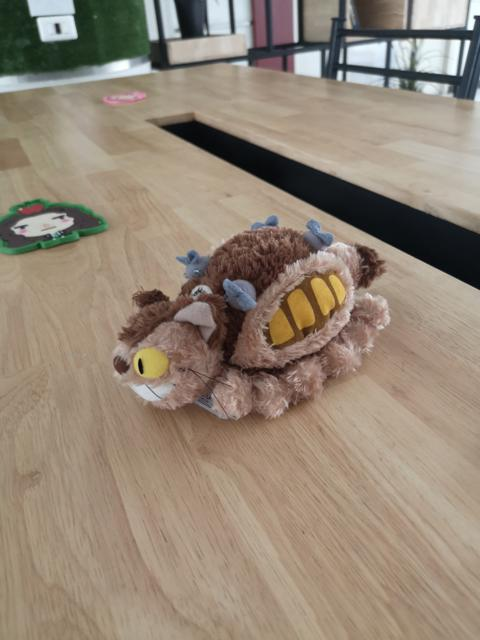nekobus: (107, 210, 394, 431)
